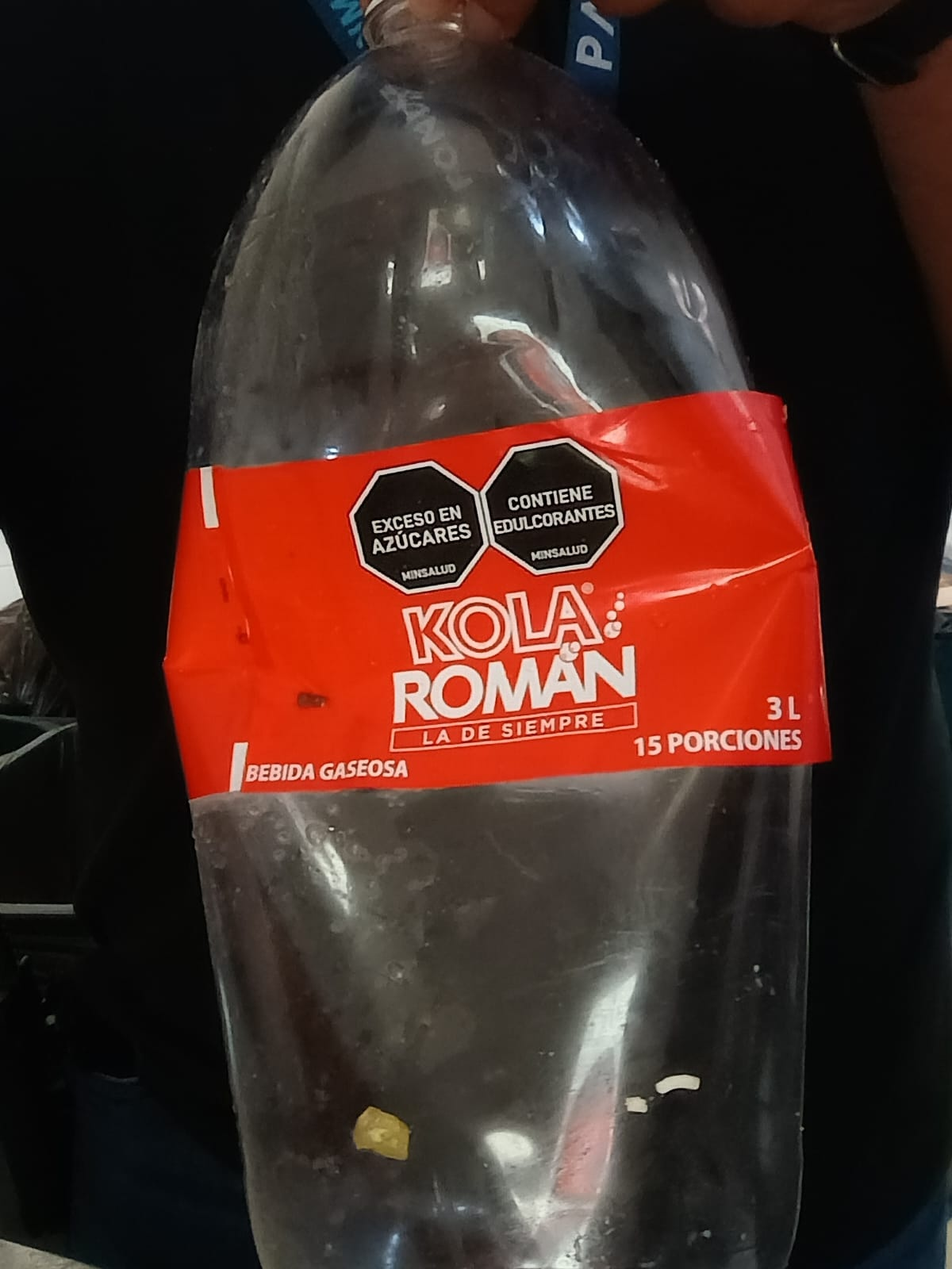Plastico: (159, 0, 834, 1269)
